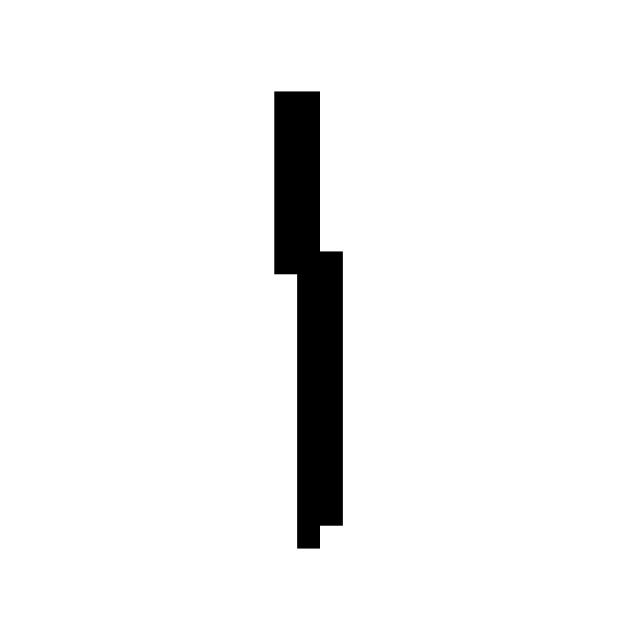1 -one-: (238, 69, 368, 563)
